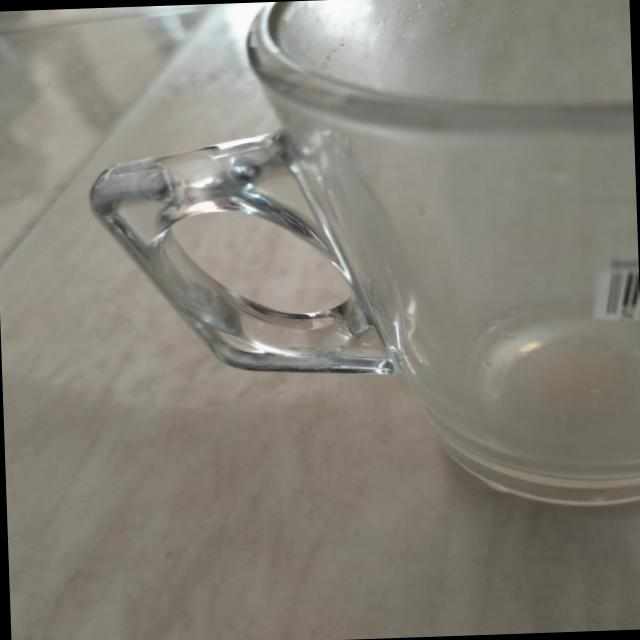glass-VX4N: (85, 0, 640, 526)
